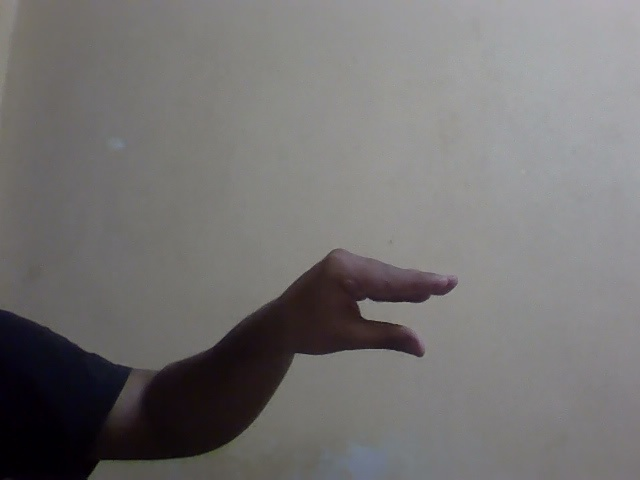No: (202, 230, 473, 384)
